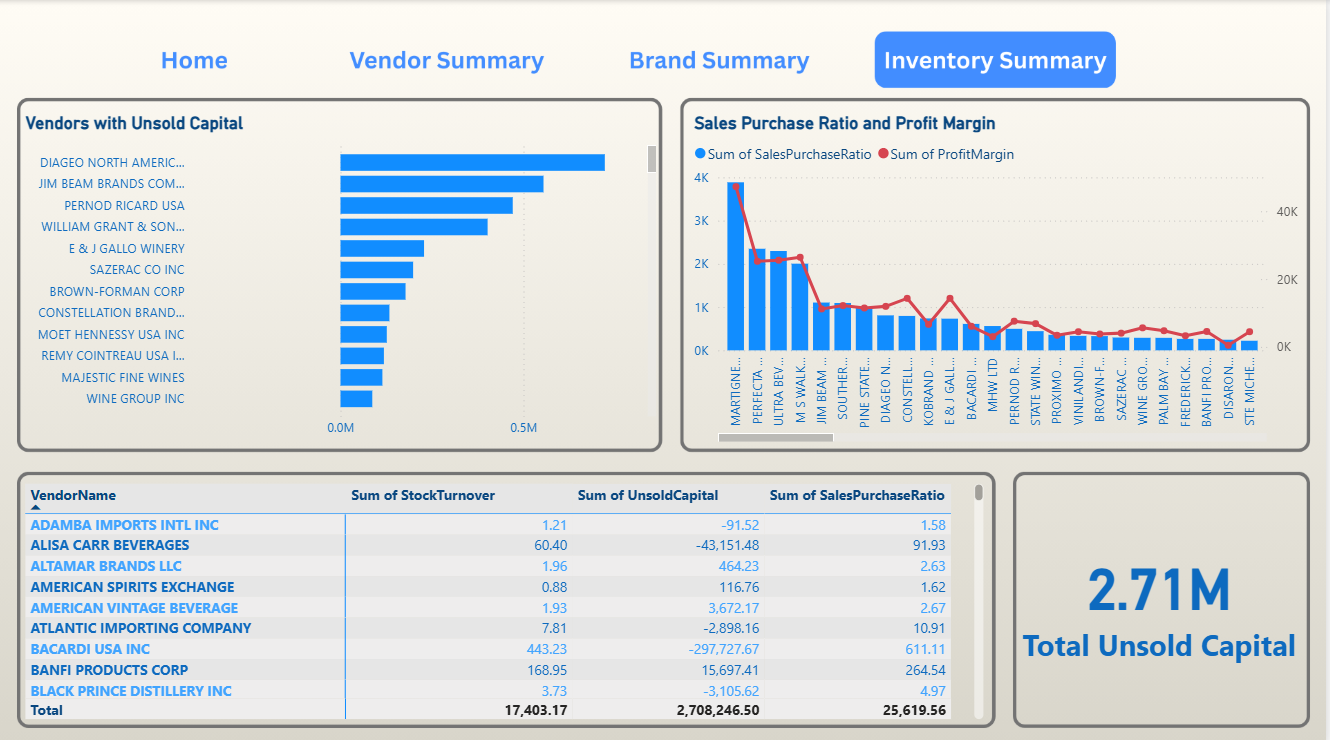

The page's visual inventory and layout, read from the dashboard file:
{"tool":"powerbi","page":{"name":"Inventory Summary","canvas":[1280,720],"ordinal":3},"visuals":[{"type":"pivotTable","fields":{"Rows":["vendor_sales_summary.VendorName"],"Values":["Sum(vendor_sales_summary.StockTurnover)","Sum(vendor_sales_summary.UnsoldCapital)","Sum(vendor_sales_summary.SalesPurchaseRatio)"]},"box":[20.6,462.4,934.5,237.4],"z":0},{"type":"barChart","title":"Vendors with Unsold Capital","fields":{"Category":["vendor_sales_summary.VendorName"],"Y":["Sum(vendor_sales_summary.UnsoldCapital)"]},"box":[20.6,108.4,618.9,322.5],"z":1000},{"type":"lineClusteredColumnComboChart","title":"Sales Purchase Ratio and Profit Margin","fields":{"Category":["vendor_sales_summary.VendorName"],"Y":["Sum(vendor_sales_summary.SalesPurchaseRatio)"],"Y2":["Sum(vendor_sales_summary.ProfitMargin)"]},"box":[665.5,108.4,592.8,322.5],"z":2000},{"type":"card","fields":{"Values":["Sum(vendor_sales_summary.UnsoldCapital)"]},"box":[982.5,462.4,275.8,237.4],"z":3000},{"type":"actionButton","box":[129,37,120.8,39.8],"z":3001},{"type":"actionButton","box":[330.7,38.4,201.7,39.8],"z":3002},{"type":"actionButton","box":[599.7,37,193.5,39.8],"z":3003},{"type":"actionButton","box":[842.5,37,234.6,39.8],"z":3004}]}

Visuals, with their boxes in screenshot pixels (x1, y1, x2, y2), scaled from the page's 1280x720 canvas onto the 1330x740 screenshot:
pivotTable - vendor_sales_summary.VendorName x Sum(vendor_sales_summary.StockTurnover): 21, 475, 992, 719
"Vendors with Unsold Capital" barChart: 21, 111, 664, 443
"Sales Purchase Ratio and Profit Margin" lineClusteredColumnComboChart: 691, 111, 1307, 443
card - Sum(vendor_sales_summary.UnsoldCapital): 1021, 475, 1307, 719
actionButton: 134, 38, 260, 79
actionButton: 344, 39, 553, 80
actionButton: 623, 38, 824, 79
actionButton: 875, 38, 1119, 79
